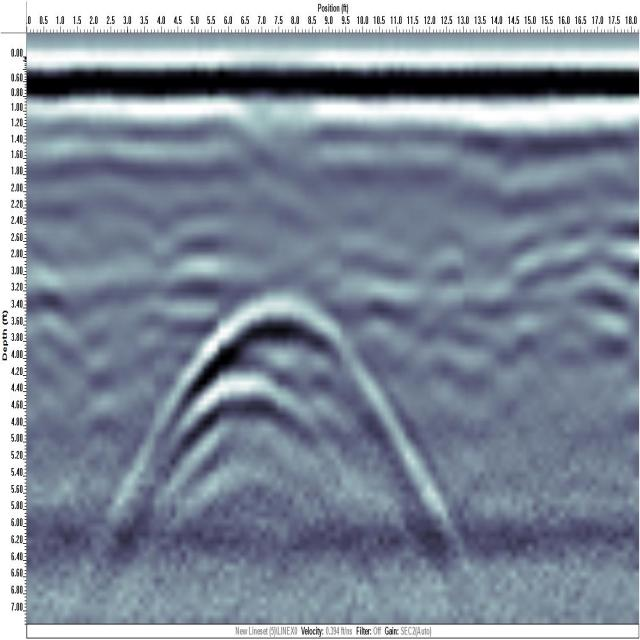hyperbola: (145, 286, 417, 509)
